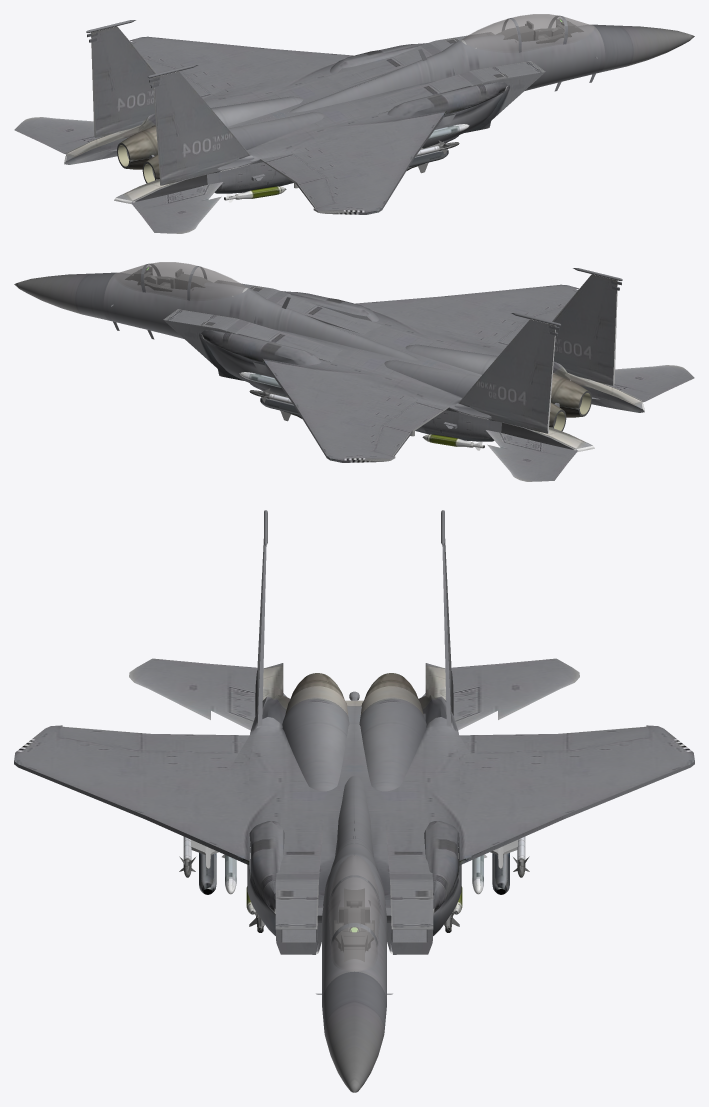
File: mcdonnell_douglas_f-15_strike_eagle.glb
3 views of the same model, one above another, from view 1: azimuth 30°, elevation 25°; view 2: azimuth 150°, elevation 25°; view 3: azimuth 270°, elevation 25° (orthographic). The views are drawn at different scales.
Parts seen in each view (by area): view 1: F15_1; view 2: F15_1; view 3: F15_1.
Boxes of the visible parts, x1,y1,x2,y2 form: F15_1: (14,14,694,233); F15_1: (14,262,694,481); F15_1: (14,510,694,1092).
Bounding box in the file's own units: 14.61 × 4 × 9.81.
21 materials, 5 textured.
